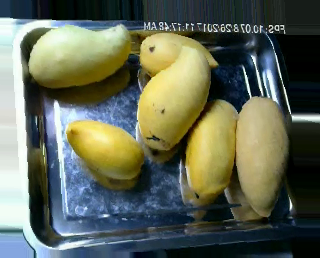Mango: (136, 45, 210, 150), (235, 96, 289, 217), (28, 24, 130, 88), (184, 98, 237, 199), (65, 121, 146, 180), (140, 33, 220, 76)
